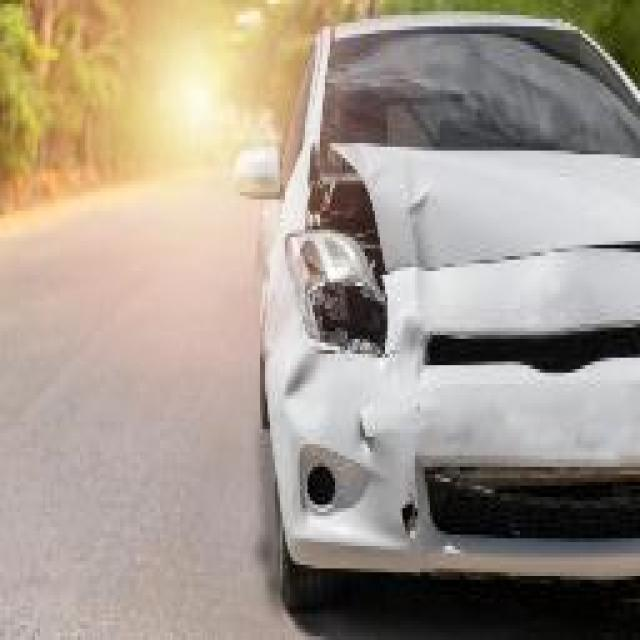Bonnet: (322, 143, 640, 316)
Bumper: (275, 346, 500, 565)
Light: (295, 222, 378, 346)
